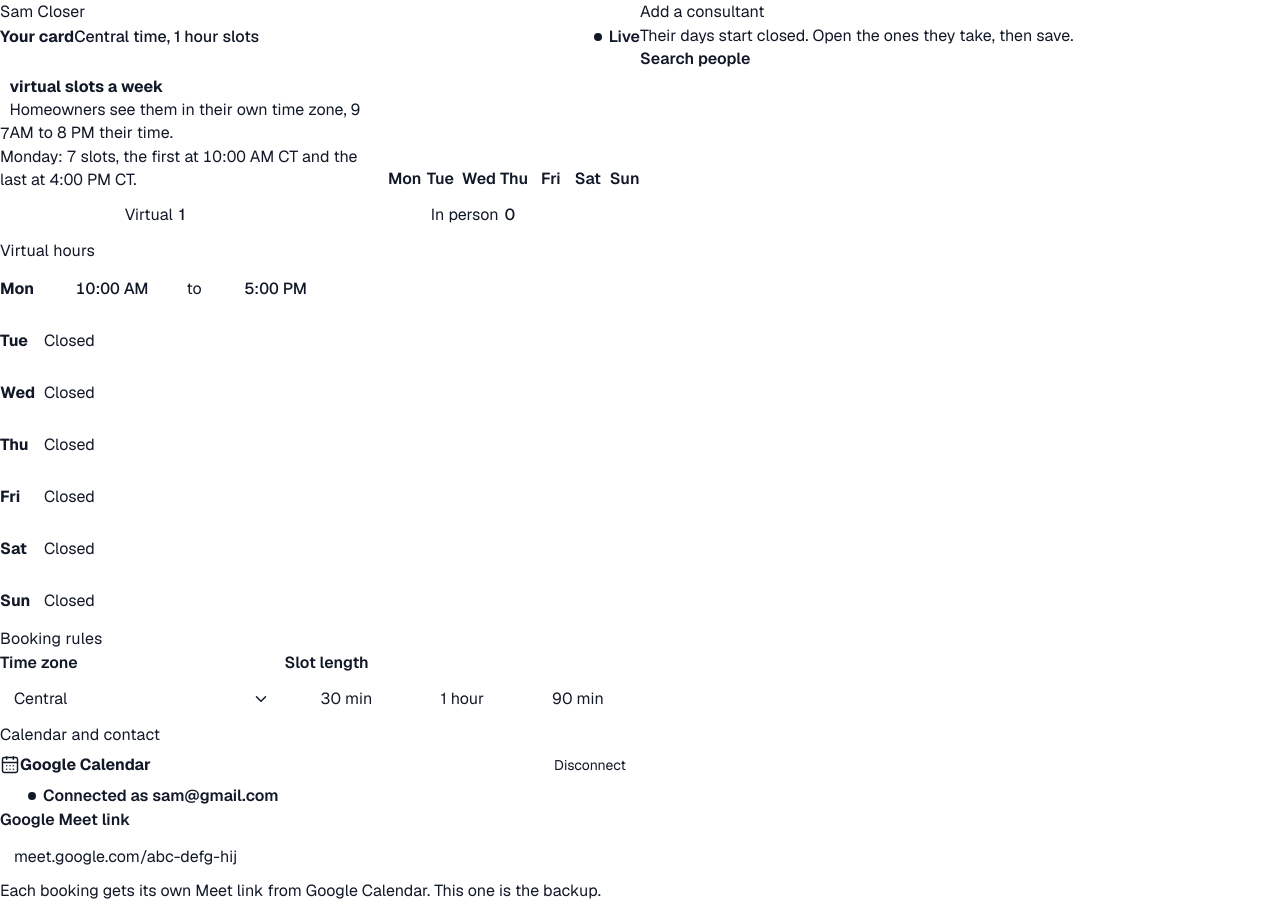
Scenario: Google Calendar row › own card, connected: Disconnect asks first, then removes the connection
Click the button "Disconnect" at (590,765), box [540,754,640,776]
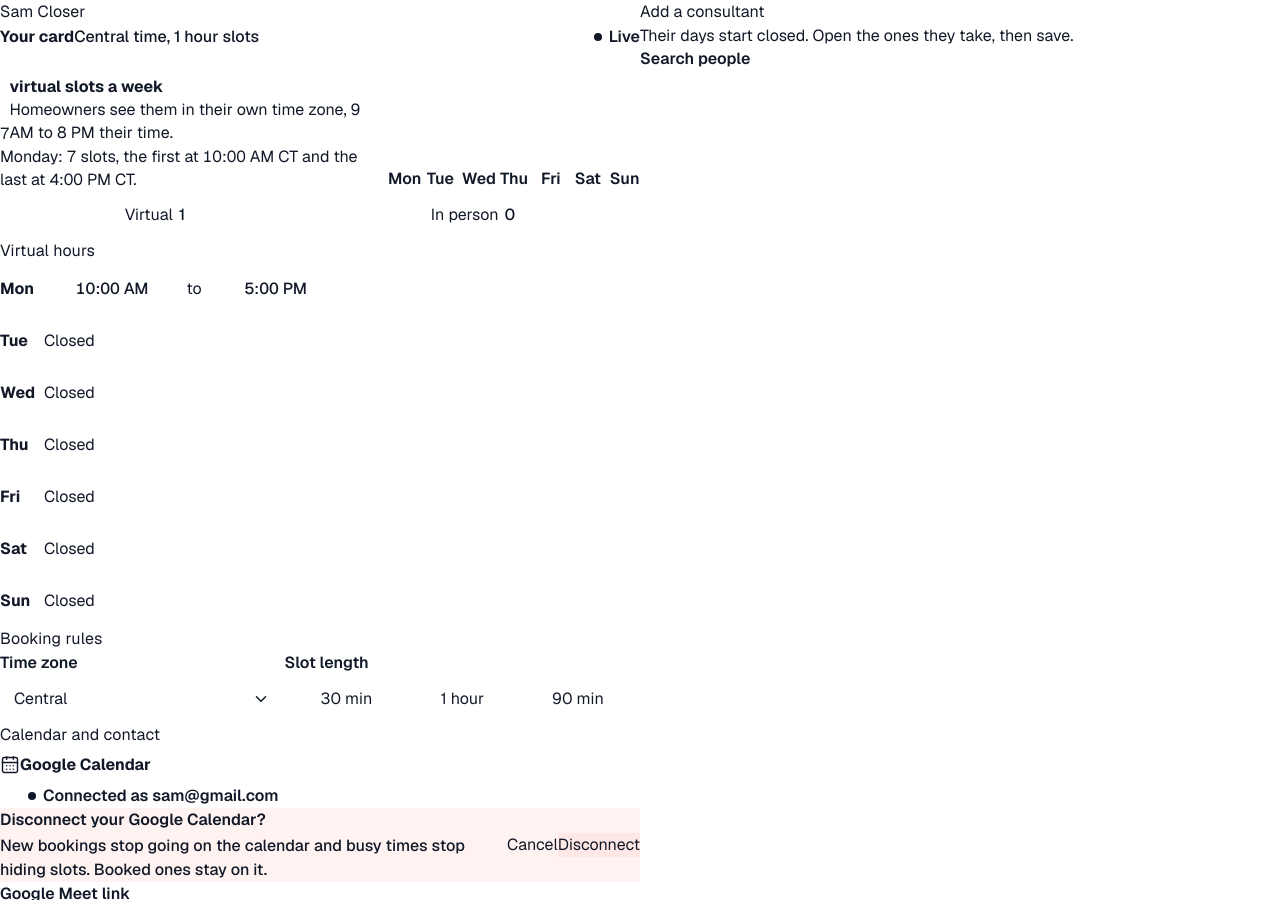
Expected: the text "Disconnect your Google Calendar?" is shown, [0,809,266,830]
Click the button "Disconnect" at (599,845), box [558,833,640,857]
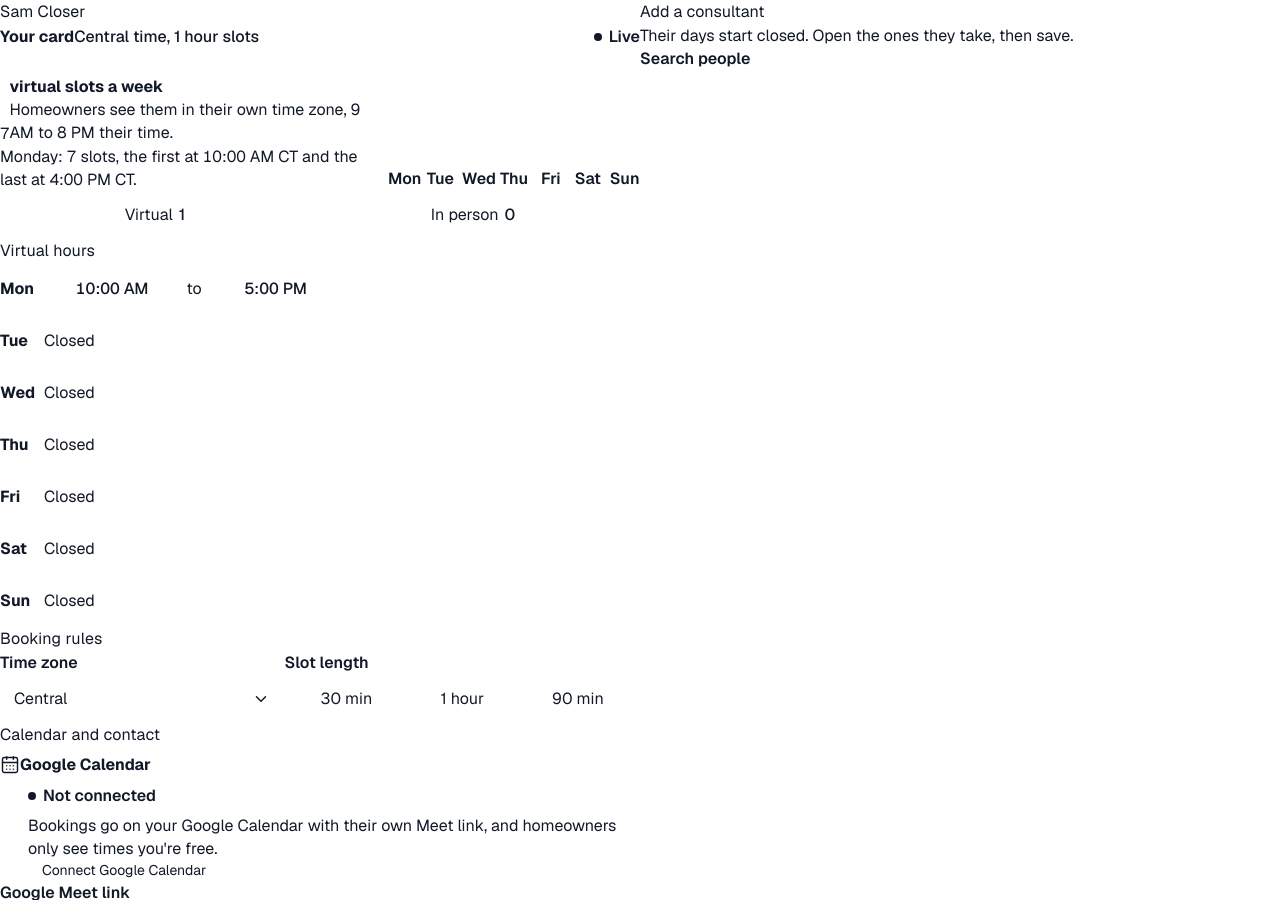
Expected: the text "Not connected" is shown, [28,784,156,808]
Expected: the button "Connect Google Calendar" is shown, [28,860,220,881]
